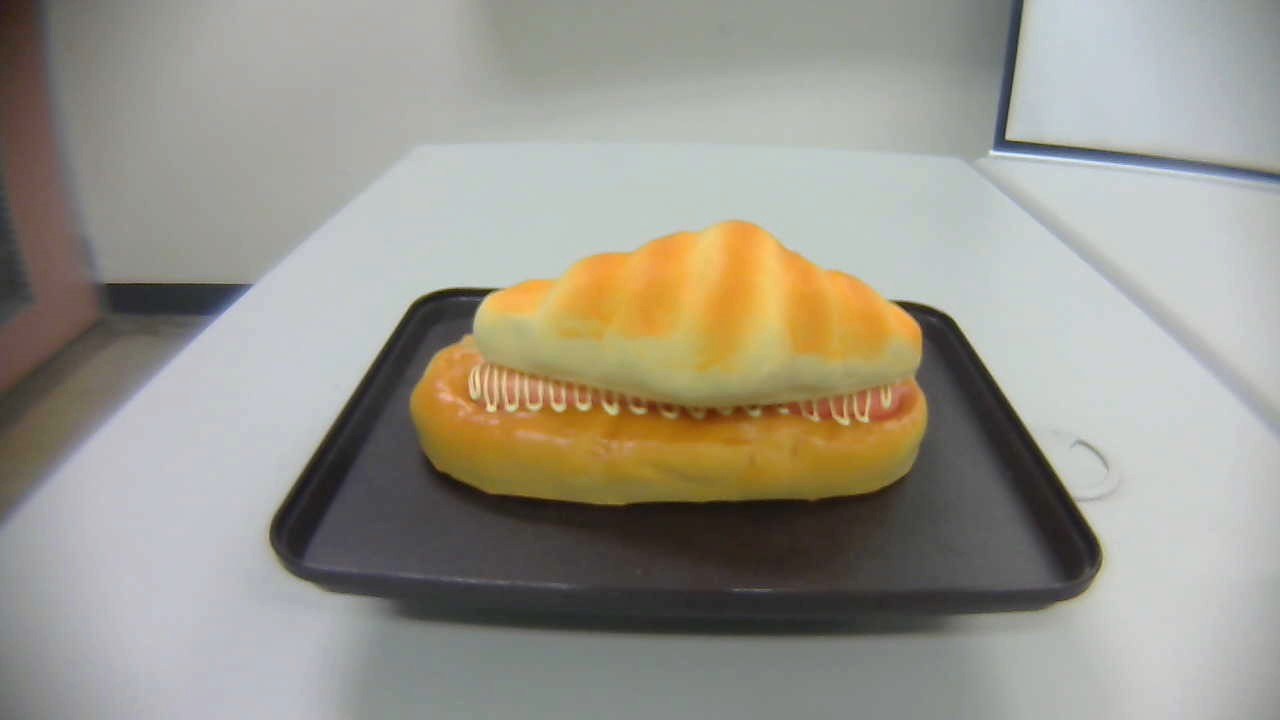croissant: (475, 219, 923, 406)
hot dog: (412, 329, 930, 506)
